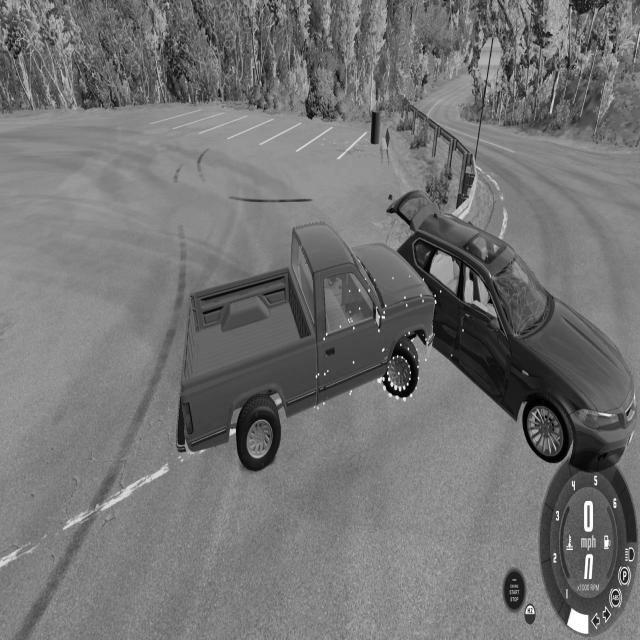accident: (176, 178, 639, 476)
